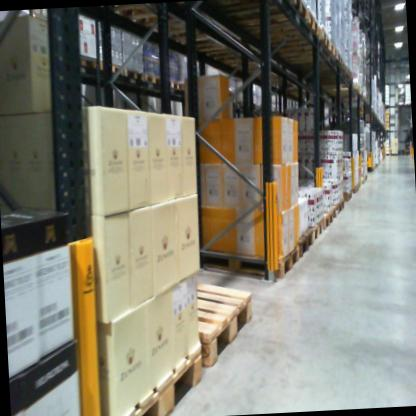pallet: (186, 264, 261, 378), (109, 338, 208, 416), (185, 239, 301, 293), (202, 0, 310, 35), (111, 1, 197, 38), (264, 27, 331, 63), (248, 13, 321, 45), (281, 41, 337, 70), (74, 49, 106, 73), (293, 225, 315, 258), (141, 70, 166, 94), (99, 55, 124, 78), (123, 63, 147, 86), (162, 74, 182, 99), (308, 217, 325, 241), (321, 209, 334, 232), (327, 202, 339, 222), (334, 197, 345, 214)
